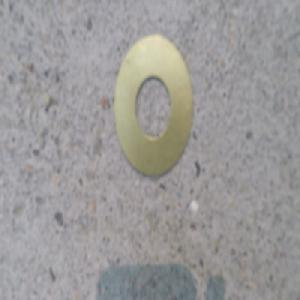Washer: (115, 40, 193, 178)
